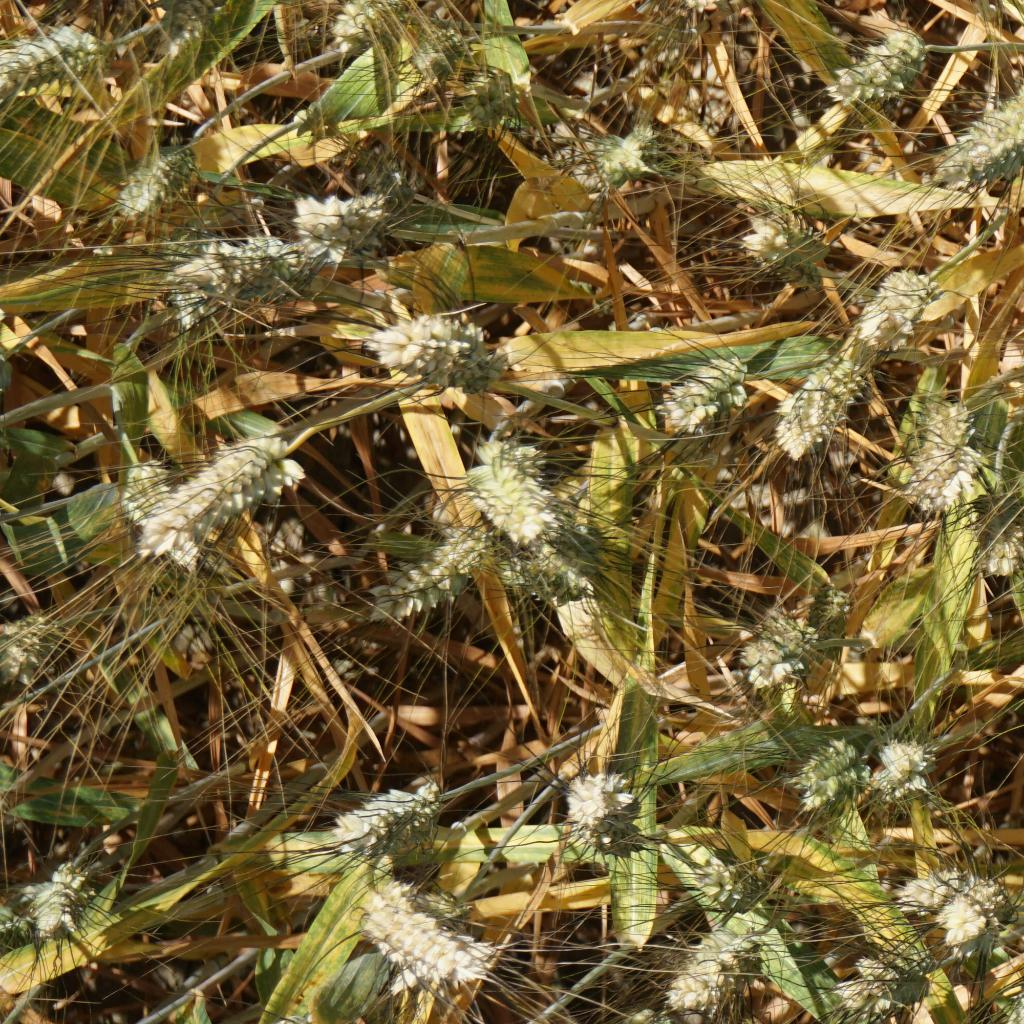0-0: (362, 887, 487, 982), (0, 9, 121, 105), (382, 526, 496, 624), (325, 777, 444, 861), (122, 451, 200, 571), (371, 327, 503, 395), (226, 233, 354, 300), (860, 251, 937, 358), (723, 204, 832, 277), (467, 449, 546, 548), (735, 598, 824, 685), (184, 442, 281, 519), (772, 358, 861, 440), (952, 79, 1024, 180), (675, 914, 759, 999), (836, 25, 920, 103), (112, 137, 197, 211), (841, 935, 917, 1016), (155, 247, 236, 321), (503, 531, 581, 607), (561, 756, 638, 830), (572, 123, 655, 190), (28, 863, 89, 954), (0, 612, 68, 691), (934, 874, 1002, 950), (668, 354, 740, 425), (153, 0, 228, 68), (285, 187, 385, 236), (917, 446, 987, 515), (459, 49, 523, 124), (903, 396, 978, 460), (792, 733, 856, 807), (881, 725, 940, 804), (685, 848, 752, 910), (406, 894, 443, 987), (318, 0, 399, 39), (904, 864, 955, 910), (652, 0, 739, 19), (981, 530, 1014, 576)
